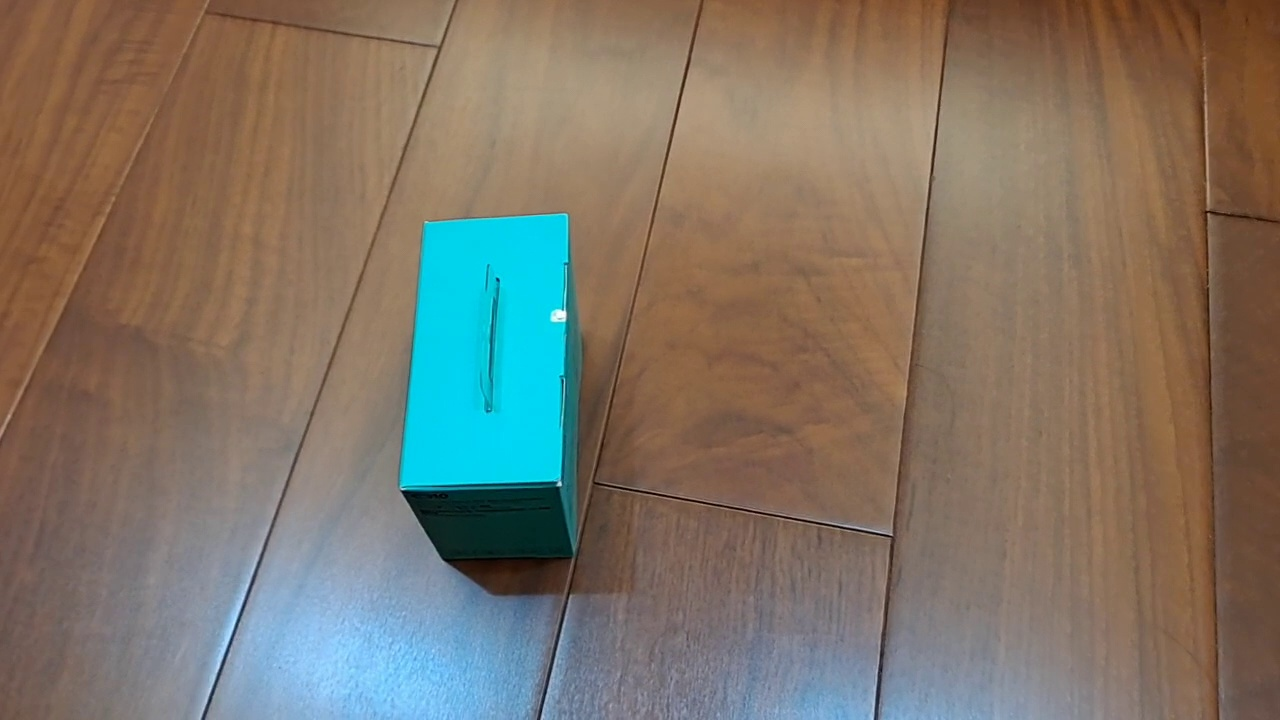webcam: (398, 212, 580, 561)
